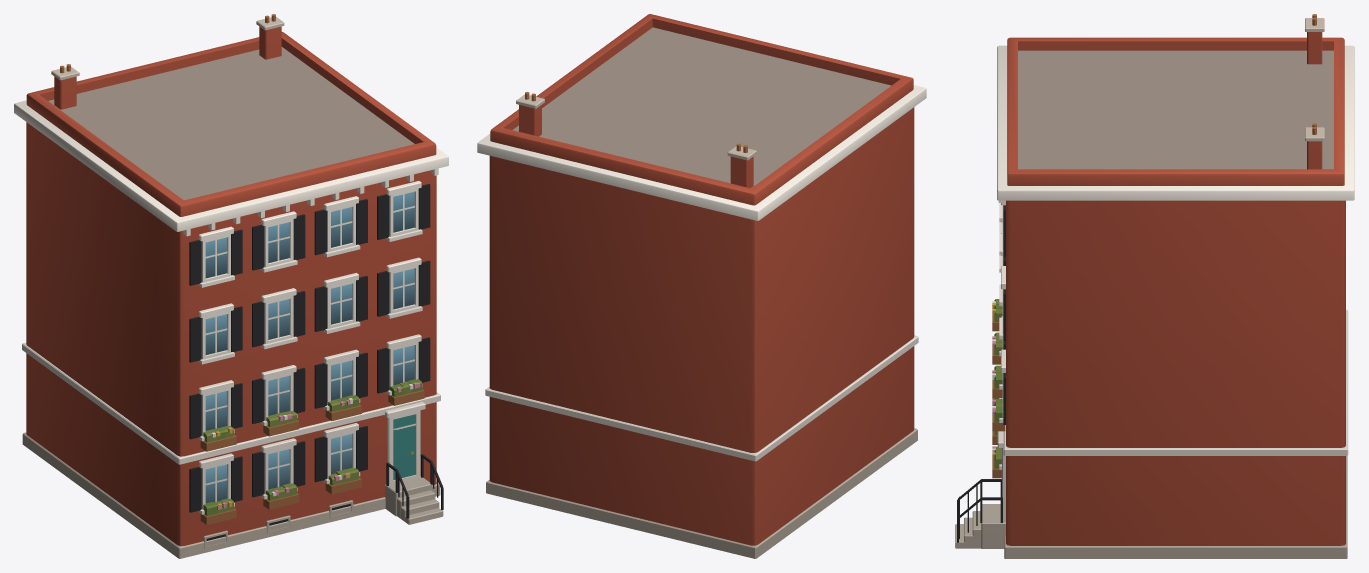
The model's file is park_n1.glb.
3 views of the same model, side by side, from view 1: azimuth 30°, elevation 25°; view 2: azimuth 150°, elevation 25°; view 3: azimuth 270°, elevation 25° (orthographic). The views are drawn at different scales.
Visible parts, largest first — view 1: park_n1; view 2: park_n1; view 3: park_n1.
Part boxes in pixels (x1,y1,x2,y2): park_n1: (14,14,448,558); park_n1: (477,14,926,558); park_n1: (955,14,1354,558).
Size of the model in its own units: 12.64 by 16.94 by 14.68.
Materials: 1 (1 with a texture image).
